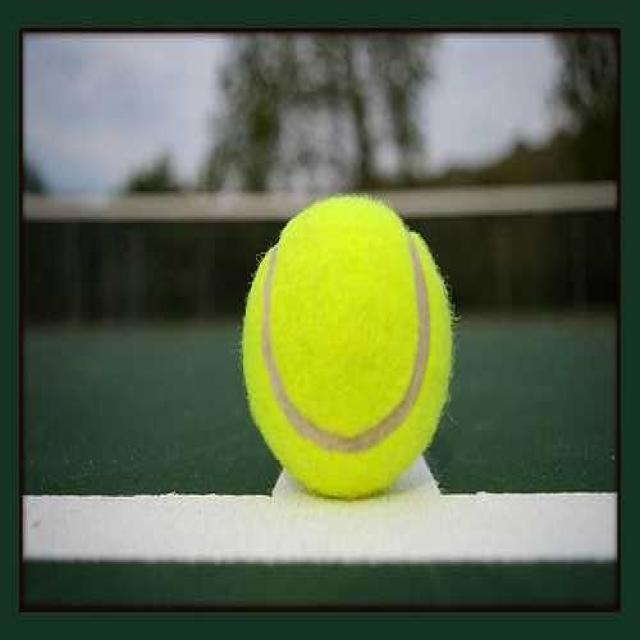Tennis_Ball: (239, 195, 455, 504)
